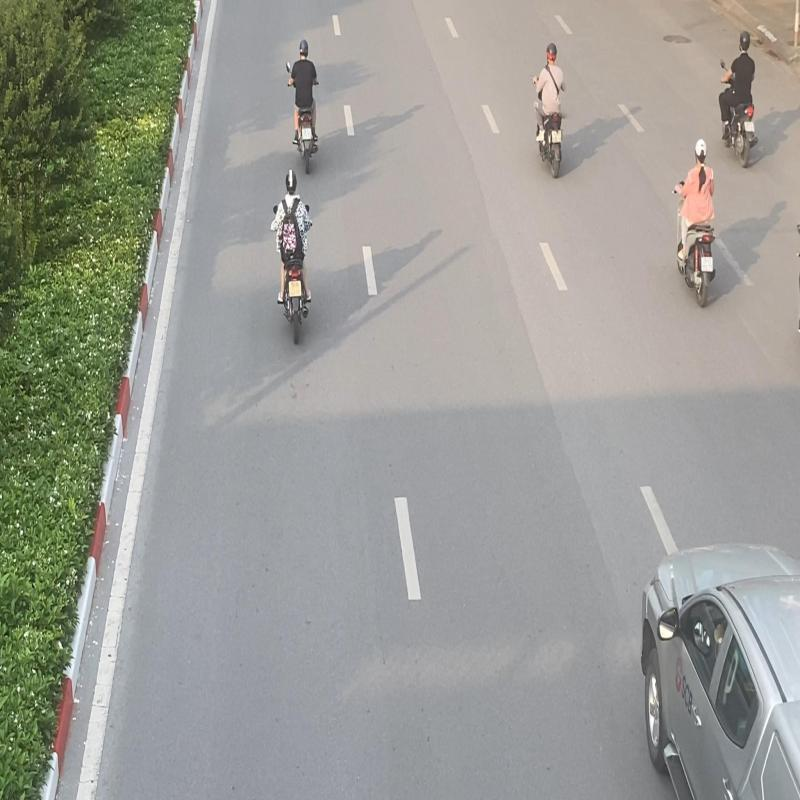helmet: (694, 138, 708, 165), (284, 168, 298, 194), (740, 30, 750, 52), (299, 39, 309, 60)
licenseplate: (288, 280, 302, 298), (701, 256, 713, 273), (302, 128, 312, 140), (744, 120, 754, 132)
motorcyclist: (672, 136, 716, 308), (270, 167, 312, 347), (718, 29, 759, 170), (286, 38, 320, 174)
